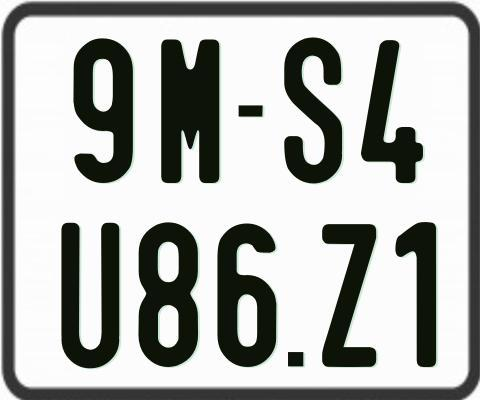1: (393, 221, 438, 369)
4: (360, 38, 424, 181)
6: (215, 223, 276, 367)
8: (137, 221, 203, 371)
9: (72, 36, 136, 185)
M: (159, 37, 221, 183)
S: (282, 38, 344, 187)
U: (60, 220, 124, 365)
Z: (320, 221, 375, 365)
